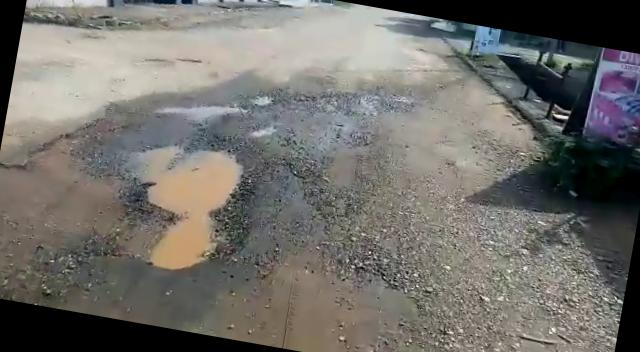pothole: (87, 119, 263, 278), (251, 91, 276, 108)
